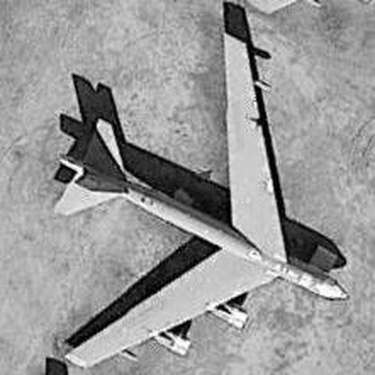airplane: (34, 27, 366, 370), (230, 1, 330, 33)
